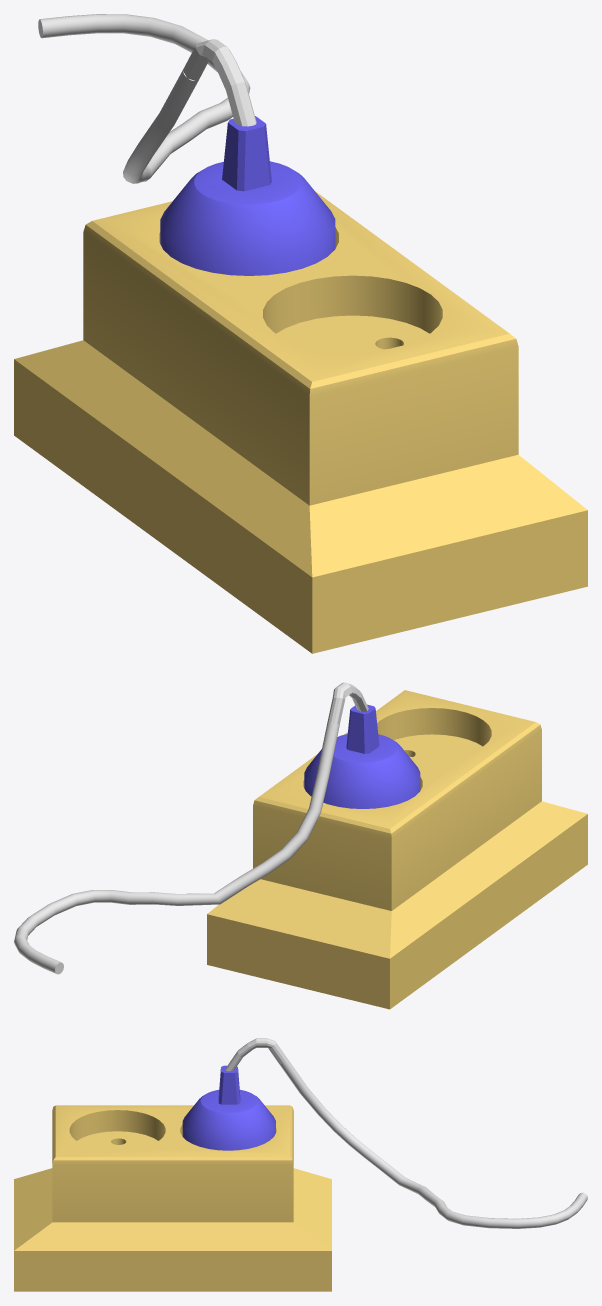
Rendered from 01_socket.FBX.
3 renders of one model, top to bottom at view 1: azimuth 30°, elevation 25°; view 2: azimuth 150°, elevation 25°; view 3: azimuth 270°, elevation 25°, orthographic. The views are drawn at different scales.
Parts seen in each view (by area): view 1: Box057, Cylinder070, Line008; view 2: Box057, Line008, Cylinder070; view 3: Box057, Cylinder070, Line008.
Boxes of the visible parts, x1,y1,x2,y2 form: Box057: [14, 191, 587, 653]; Cylinder070: [160, 116, 335, 275]; Line008: [38, 14, 256, 183]; Box057: [207, 690, 587, 1009]; Line008: [14, 682, 368, 974]; Cylinder070: [304, 704, 420, 808]; Box057: [14, 1105, 331, 1291]; Cylinder070: [182, 1065, 275, 1150]; Line008: [225, 1038, 587, 1228].
Size of the model in its own units: 54.25 by 56.6 by 136.
